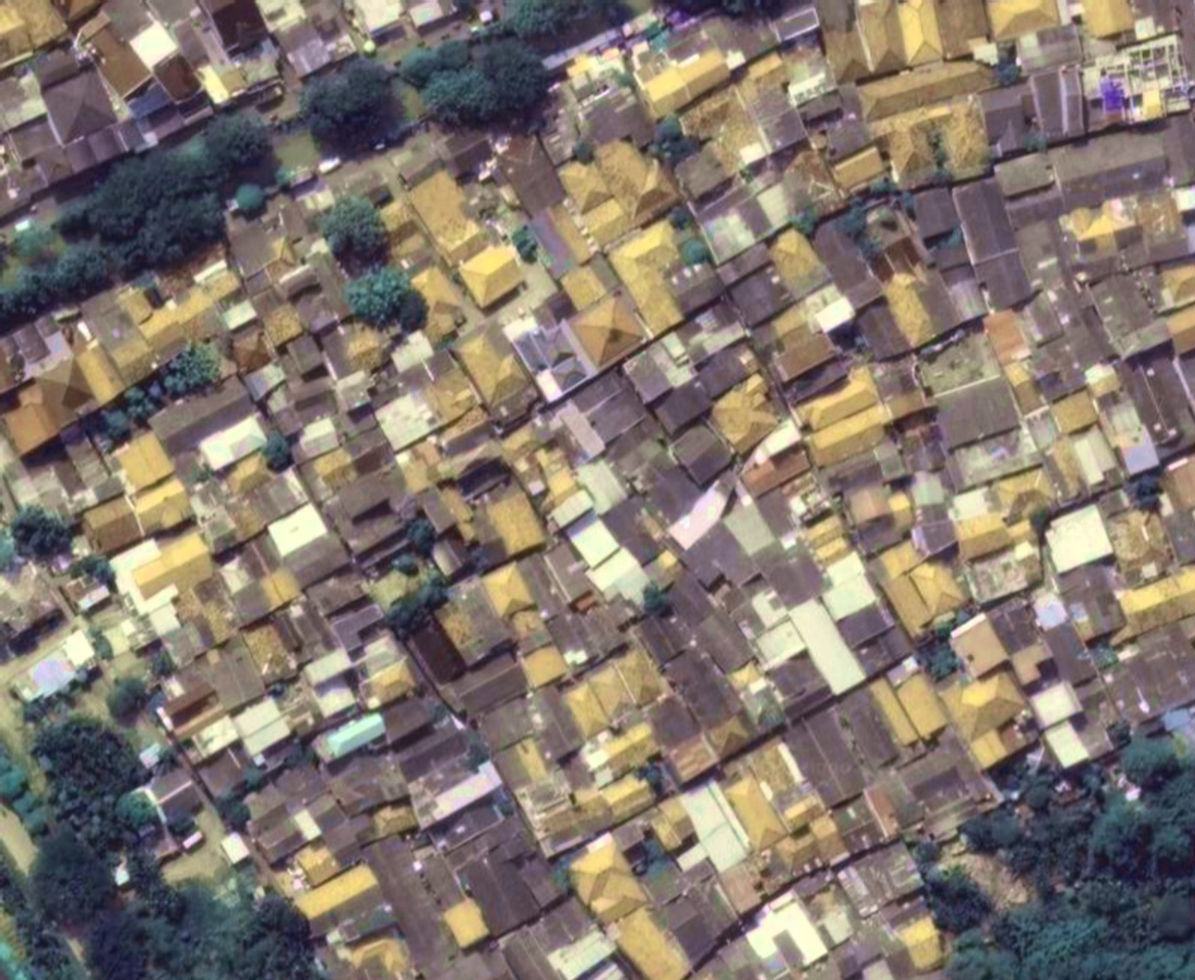building: (0, 0, 184, 216), (674, 734, 849, 912), (361, 818, 490, 980), (229, 756, 370, 903), (494, 713, 633, 862), (73, 0, 214, 144), (622, 0, 787, 122), (0, 31, 128, 183), (509, 279, 652, 407), (856, 732, 999, 858), (140, 0, 296, 114), (0, 35, 121, 174), (553, 123, 684, 250), (725, 578, 837, 719), (359, 830, 464, 980), (48, 283, 166, 408), (357, 342, 480, 459), (620, 298, 752, 406), (844, 254, 964, 368), (603, 216, 714, 339), (658, 637, 764, 765), (868, 92, 996, 197), (1090, 609, 1195, 735), (1074, 28, 1195, 137), (1057, 183, 1190, 281), (948, 174, 1035, 316), (937, 658, 1044, 773), (654, 564, 758, 681), (1047, 119, 1175, 214), (686, 164, 802, 268), (180, 453, 292, 558), (0, 354, 106, 463), (318, 460, 427, 566), (292, 859, 401, 964), (493, 891, 620, 980), (202, 529, 309, 634), (425, 787, 536, 888), (556, 642, 670, 740), (145, 366, 259, 463), (448, 317, 545, 431), (110, 525, 222, 621), (853, 48, 995, 123), (549, 363, 653, 463), (584, 125, 682, 229), (397, 741, 506, 833), (1079, 363, 1163, 479), (649, 872, 747, 971), (783, 705, 873, 811), (1023, 669, 1114, 773), (402, 165, 492, 270), (7, 625, 107, 718), (558, 831, 650, 931), (782, 593, 869, 698), (254, 0, 364, 83), (1084, 262, 1173, 364), (736, 887, 832, 980), (426, 572, 517, 670), (1118, 346, 1195, 458), (455, 842, 543, 940), (252, 0, 357, 82), (760, 146, 852, 239), (214, 200, 304, 295), (634, 41, 737, 122), (68, 11, 157, 104), (804, 214, 886, 314), (702, 369, 793, 459), (461, 477, 550, 569), (812, 0, 907, 85), (675, 776, 756, 875), (1014, 216, 1083, 329), (134, 281, 227, 364), (834, 838, 927, 920), (603, 899, 697, 980), (928, 371, 1022, 451), (732, 63, 810, 159), (563, 287, 650, 372), (682, 518, 767, 604), (490, 128, 569, 220), (34, 61, 119, 146), (409, 758, 505, 833), (802, 399, 899, 473), (828, 683, 906, 775), (1052, 556, 1131, 646), (544, 594, 631, 675), (0, 553, 69, 655), (942, 423, 1041, 493), (1101, 499, 1179, 587), (790, 364, 883, 437), (323, 741, 410, 819), (442, 648, 532, 723), (520, 195, 597, 281), (624, 449, 705, 530), (0, 310, 78, 393), (452, 235, 533, 314), (619, 330, 701, 406), (1040, 306, 1120, 383), (196, 635, 272, 716), (948, 503, 1038, 571), (517, 680, 589, 765), (578, 718, 664, 788), (389, 714, 475, 784), (1115, 563, 1195, 637), (961, 539, 1048, 607), (0, 430, 68, 515), (664, 477, 740, 553), (599, 420, 675, 496), (1037, 501, 1115, 575), (760, 223, 832, 302), (174, 575, 245, 653), (1026, 62, 1092, 145), (136, 758, 210, 832), (865, 349, 935, 427), (665, 416, 738, 490), (840, 476, 906, 557), (598, 494, 668, 570), (400, 614, 470, 690), (0, 0, 78, 68), (584, 543, 656, 615), (758, 539, 829, 612), (270, 594, 340, 668), (763, 318, 839, 386), (766, 889, 831, 968), (192, 411, 272, 475), (943, 610, 1013, 683), (370, 384, 443, 454), (883, 895, 945, 977), (408, 260, 470, 342), (388, 427, 459, 498), (975, 81, 1040, 158), (107, 427, 177, 498), (726, 658, 790, 735), (308, 707, 390, 767), (725, 262, 796, 331), (77, 491, 146, 561), (430, 116, 500, 185), (126, 473, 198, 540), (1012, 215, 1075, 291), (890, 668, 953, 744), (523, 790, 591, 860), (530, 100, 597, 171), (279, 528, 353, 592), (1133, 0, 1194, 77), (667, 141, 736, 209), (196, 0, 275, 59), (935, 97, 993, 177), (675, 82, 746, 146), (690, 337, 761, 401), (416, 362, 483, 429), (660, 252, 728, 318), (647, 374, 717, 438), (737, 443, 814, 501), (544, 919, 617, 980), (1039, 614, 1098, 689), (877, 568, 938, 640), (864, 674, 921, 751), (417, 362, 483, 428), (717, 491, 781, 559), (906, 552, 969, 621), (989, 463, 1059, 525), (472, 693, 542, 755), (580, 85, 653, 144), (582, 382, 649, 446), (69, 337, 129, 408), (538, 538, 598, 609), (628, 603, 693, 668), (193, 742, 258, 807), (984, 592, 1048, 658), (243, 465, 311, 527), (307, 245, 360, 323), (155, 672, 222, 733), (1010, 21, 1085, 75), (514, 549, 570, 621), (514, 845, 575, 911), (802, 881, 861, 949), (797, 507, 859, 571), (641, 689, 703, 753), (332, 466, 398, 526), (550, 395, 608, 463), (849, 619, 914, 679), (240, 619, 298, 686), (477, 559, 537, 623), (263, 500, 329, 558), (572, 451, 631, 515), (894, 911, 953, 975), (906, 182, 964, 247), (1064, 424, 1121, 490), (932, 0, 993, 61), (1027, 343, 1088, 404), (305, 564, 369, 622), (376, 690, 442, 746), (991, 147, 1058, 202), (832, 593, 895, 651), (642, 793, 700, 856), (829, 794, 887, 857), (1037, 435, 1089, 505), (563, 509, 622, 570), (327, 597, 390, 654), (951, 507, 1015, 563), (355, 656, 420, 711), (562, 42, 629, 95), (104, 328, 162, 388), (597, 767, 658, 824), (979, 304, 1033, 368), (634, 851, 692, 910), (230, 35, 289, 93), (747, 616, 807, 673), (894, 0, 945, 67), (827, 142, 890, 196), (1002, 179, 1067, 231), (577, 192, 636, 249), (149, 47, 205, 107), (817, 448, 884, 498), (829, 926, 891, 980), (272, 678, 326, 740), (386, 136, 446, 191), (438, 894, 494, 952), (293, 529, 352, 584), (741, 416, 804, 467), (781, 475, 838, 531), (1013, 289, 1067, 348), (819, 569, 878, 623), (440, 436, 505, 485), (345, 936, 417, 980), (435, 479, 484, 543), (817, 110, 876, 163), (986, 0, 1060, 41), (341, 423, 396, 478), (289, 283, 343, 339), (192, 499, 244, 557), (286, 411, 344, 463), (697, 935, 764, 980), (714, 239, 775, 288), (556, 258, 610, 313), (239, 713, 297, 764), (62, 431, 112, 490), (255, 300, 309, 354), (1040, 716, 1091, 773), (727, 10, 780, 64), (59, 566, 114, 618), (517, 639, 571, 691), (1048, 387, 1101, 439), (605, 770, 658, 822), (186, 712, 242, 761), (308, 442, 360, 494), (224, 325, 276, 376), (345, 162, 399, 211), (532, 441, 578, 498), (1001, 356, 1046, 414), (1007, 638, 1059, 688), (907, 511, 960, 560), (753, 486, 800, 541), (328, 366, 379, 416), (282, 330, 330, 383), (544, 485, 597, 533), (352, 629, 404, 677), (373, 194, 421, 246), (273, 194, 321, 246), (384, 327, 437, 374), (299, 644, 354, 689), (158, 619, 207, 669), (768, 2, 823, 46), (428, 951, 511, 980), (414, 484, 459, 537), (843, 480, 893, 527), (230, 694, 283, 738), (198, 264, 247, 311), (1020, 402, 1066, 452), (809, 292, 859, 338), (241, 357, 291, 403), (1162, 114, 1194, 185), (925, 227, 971, 275), (765, 301, 814, 346), (506, 603, 551, 652), (882, 382, 935, 423), (1025, 586, 1071, 633), (876, 536, 924, 581), (536, 463, 583, 508), (113, 279, 158, 326), (795, 88, 846, 129), (311, 676, 358, 720), (530, 286, 577, 330), (1080, 0, 1133, 39), (495, 421, 543, 464), (191, 61, 234, 109), (572, 784, 614, 833), (344, 322, 386, 370), (273, 259, 321, 301), (742, 50, 789, 92), (370, 799, 418, 840), (348, 0, 402, 36), (643, 546, 686, 590), (46, 451, 87, 497), (946, 485, 994, 523), (1080, 357, 1122, 400), (426, 535, 466, 579), (286, 375, 334, 411), (906, 466, 947, 508), (1163, 508, 1194, 563), (1159, 262, 1195, 308), (143, 598, 183, 638), (1077, 21, 1118, 60), (405, 0, 456, 31), (1165, 454, 1194, 508), (1092, 484, 1133, 522), (880, 944, 923, 980), (218, 296, 259, 333), (418, 345, 459, 382), (1166, 304, 1194, 354), (733, 137, 769, 169), (261, 384, 294, 417), (799, 956, 843, 980), (836, 611, 868, 643), (0, 351, 22, 392), (113, 0, 157, 19), (862, 601, 890, 627), (72, 316, 96, 344), (705, 809, 722, 835), (692, 826, 710, 843), (511, 742, 526, 762), (465, 405, 481, 419), (730, 123, 746, 136), (691, 765, 709, 776), (448, 421, 475, 428), (663, 736, 682, 745), (1016, 549, 1033, 559), (698, 762, 709, 774)
tree: (61, 127, 219, 256), (27, 686, 159, 817), (950, 908, 1142, 975), (0, 241, 132, 332), (291, 57, 401, 154), (20, 822, 119, 929), (216, 886, 326, 980), (397, 27, 495, 132), (128, 190, 233, 283), (134, 335, 231, 431), (0, 870, 75, 980), (472, 36, 556, 133), (333, 256, 416, 335), (923, 856, 1002, 937), (1005, 820, 1087, 898), (314, 195, 392, 275), (1078, 805, 1158, 883), (84, 913, 177, 980), (199, 111, 278, 189), (0, 763, 62, 848), (1132, 883, 1194, 965), (120, 846, 185, 924), (505, 0, 603, 51), (1143, 774, 1189, 879), (1001, 763, 1060, 823), (388, 517, 441, 582), (839, 202, 891, 267), (11, 514, 64, 569), (91, 796, 144, 848), (1122, 734, 1180, 781), (963, 812, 1019, 860), (387, 581, 441, 626), (102, 666, 150, 713), (1075, 879, 1133, 912), (65, 546, 117, 582), (1121, 473, 1162, 509), (919, 640, 954, 676), (644, 579, 675, 614), (151, 744, 179, 772), (218, 797, 244, 826), (236, 766, 266, 790), (270, 433, 289, 469)
